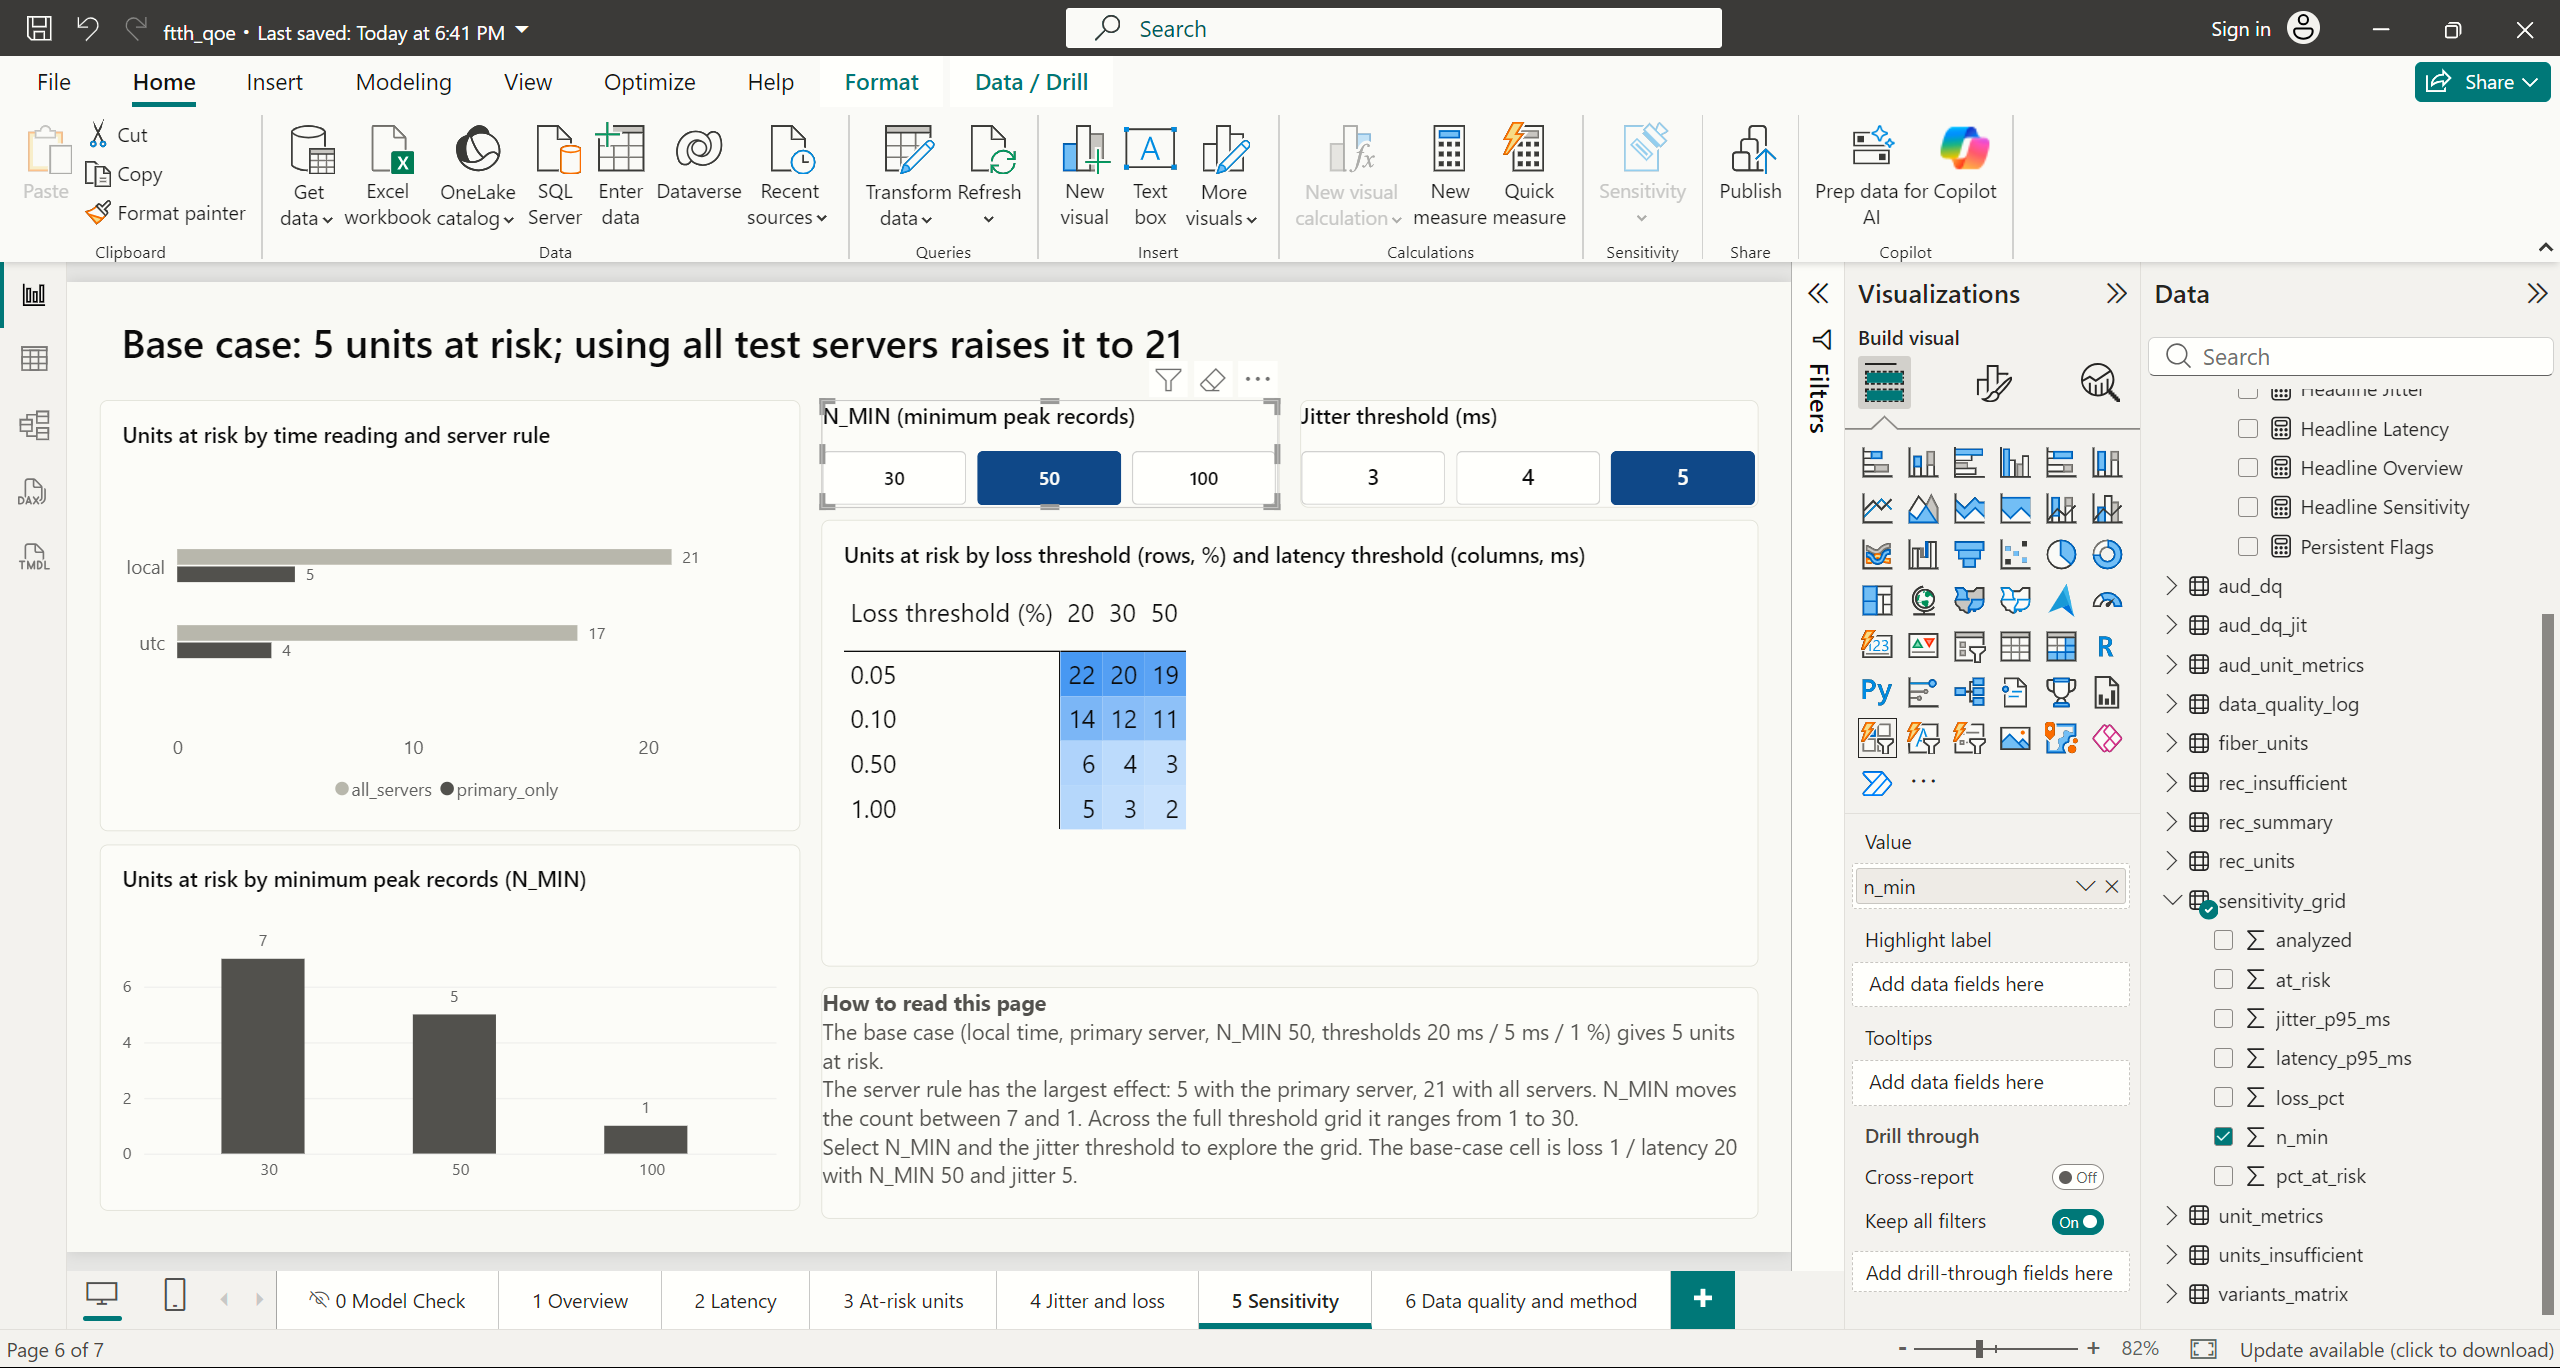

This screenshot's page, from the dashboard's own definition file:
{"tool":"powerbi","page":{"name":"5 Sensitivity","canvas":[1280,720],"ordinal":5},"visuals":[{"type":"cardVisual","fields":{"Data":["_Measures.Headline Sensitivity"]},"box":[24,16,1232,56],"z":0},{"type":"clusteredBarChart","title":"Units at risk by time reading and server rule","fields":{"Category":["variants_matrix.time_reading"],"Series":["variants_matrix.server_rule"],"Y":["Max(variants_matrix.at_risk)"]},"box":[24,88,520,320],"z":2},{"type":"clusteredColumnChart","title":"Units at risk by minimum peak records (N_MIN)","fields":{"Category":["sensitivity_grid.n_min"],"Y":["Max(sensitivity_grid.at_risk)"]},"box":[24,418,520,272],"z":3},{"type":"pivotTable","title":"Units at risk by loss threshold (rows, %) and latency threshold (columns, ms)","fields":{"Columns":["sensitivity_grid.latency_p95_ms"],"Rows":["sensitivity_grid.loss_pct"],"Values":["Max(sensitivity_grid.at_risk)"]},"box":[560,176,696,332],"z":4},{"type":"advancedSlicerVisual","title":"N_MIN (minimum peak records)","fields":{"Values":["sensitivity_grid.n_min"]},"box":[560.1,88,340,80],"z":5},{"type":"advancedSlicerVisual","title":"Jitter threshold (ms)","fields":{"Values":["sensitivity_grid.jitter_p95_ms"]},"box":[916,88,340,80],"z":6},{"type":"textbox","box":[560,524,696,172],"z":7}]}

Visuals, with their boxes on the page's 1280x720 design canvas (x1, y1, x2, y2). These are canvas units, not pixel positions in the 2560x1368 screenshot, which may show the page scaled, cropped or inside an application window:
cardVisual - _Measures.Headline Sensitivity: region(24, 16, 1256, 72)
"Units at risk by time reading and server rule" clusteredBarChart: region(24, 88, 544, 408)
"Units at risk by minimum peak records (N_MIN)" clusteredColumnChart: region(24, 418, 544, 690)
"Units at risk by loss threshold (rows, %) and latency threshold (columns, ms)" pivotTable: region(560, 176, 1256, 508)
"N_MIN (minimum peak records)" advancedSlicerVisual: region(560, 88, 900, 168)
"Jitter threshold (ms)" advancedSlicerVisual: region(916, 88, 1256, 168)
textbox: region(560, 524, 1256, 696)
